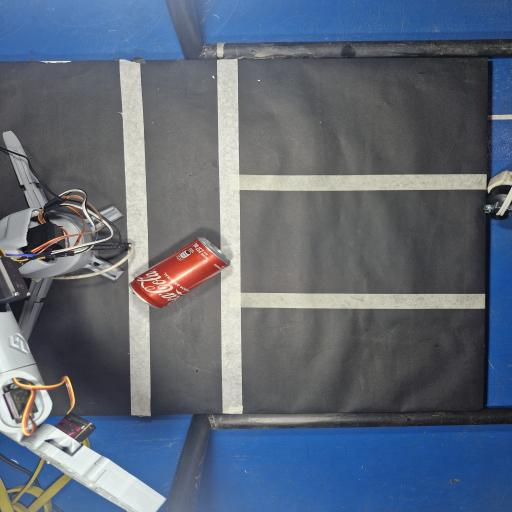lata: (131, 238, 230, 308)
